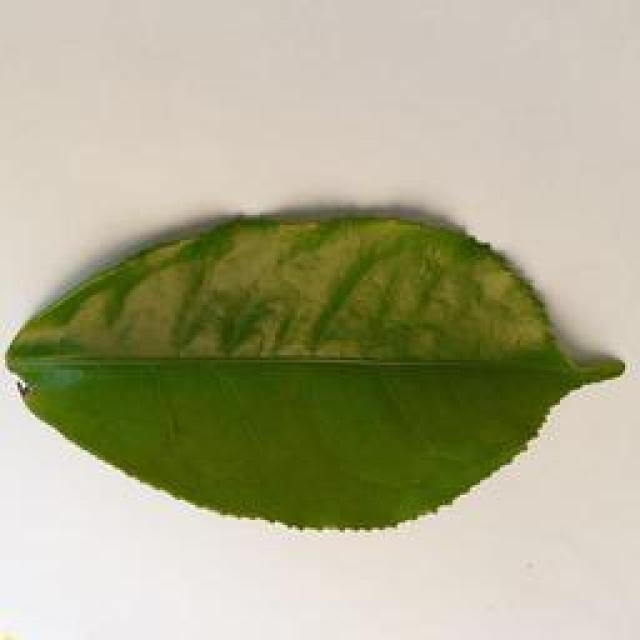Healthy: (10, 207, 630, 533)
